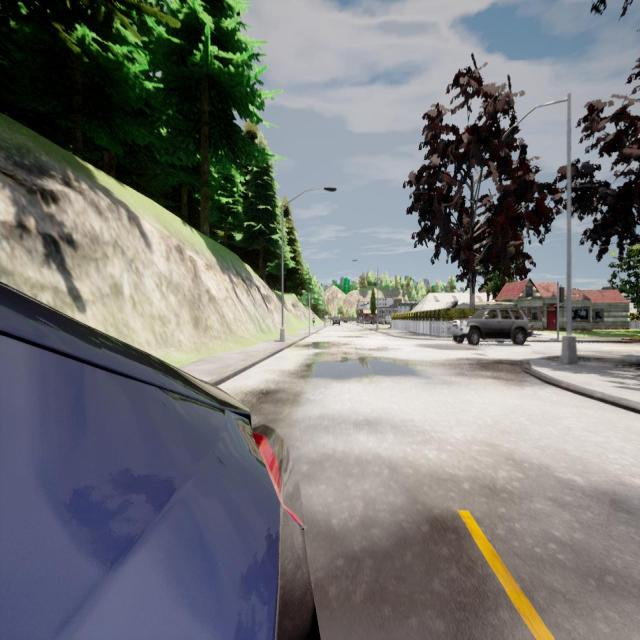Pedestrian: (312, 313, 316, 327)
Vehicle: (0, 283, 324, 637), (452, 306, 534, 346), (332, 316, 341, 326), (343, 319, 348, 324)
traffic_light: (559, 287, 564, 302), (308, 298, 311, 306)
